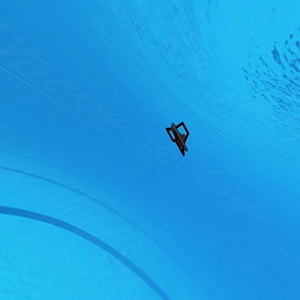submarine: (164, 118, 194, 156)
